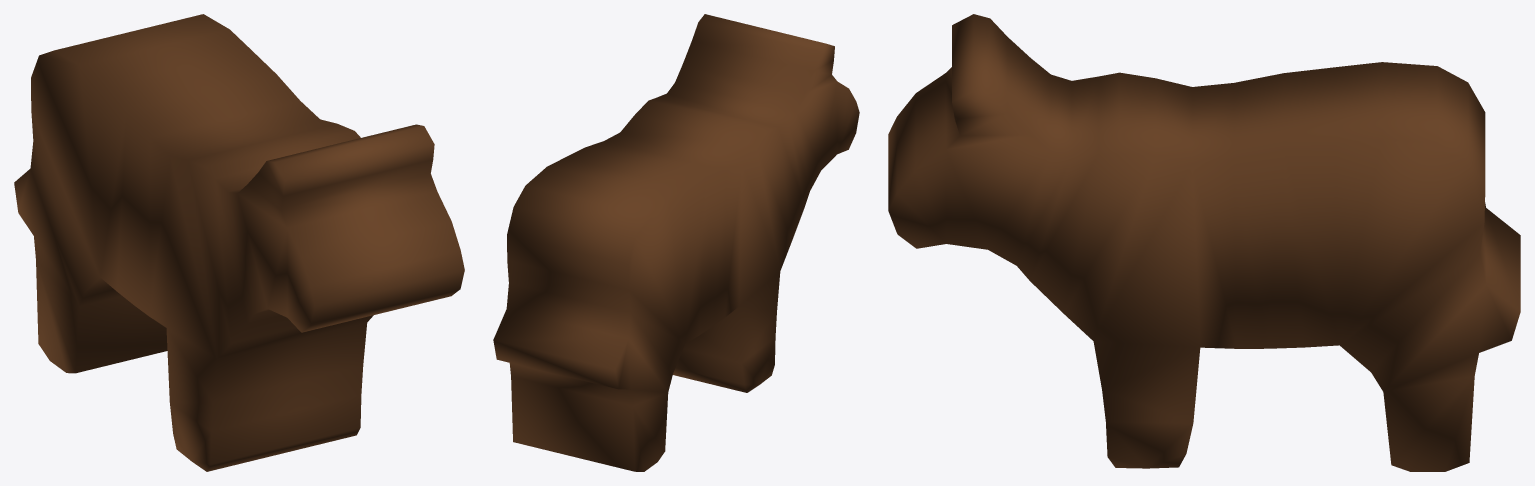
The model's file is cow.fbx.
The picture shows the model from 3 angles, left to right: view 1: azimuth 30°, elevation 25°; view 2: azimuth 150°, elevation 25°; view 3: azimuth 270°, elevation 25°; orthographic projection. The views are drawn at different scales.
Visible parts, largest first — view 1: Plane; view 2: Plane; view 3: Plane.
Part boxes in pixels (x1=…): Plane: x1=14, y1=14, x2=464, y2=471; Plane: x1=493, y1=14, x2=859, y2=471; Plane: x1=888, y1=14, x2=1520, y2=471.
Size of the model in its own units: 0.6215 by 1.44 by 2.16.
